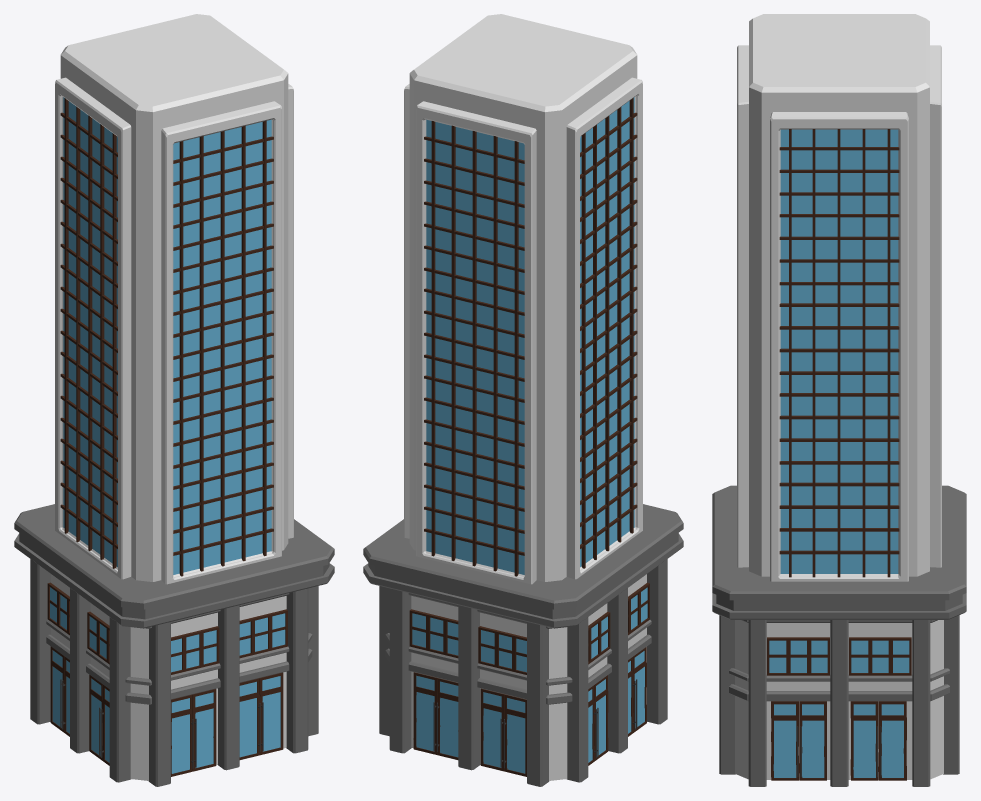
Rendered from SM_building_tall_03.fbx.
3 views of the same model, side by side, from view 1: azimuth 30°, elevation 25°; view 2: azimuth 150°, elevation 25°; view 3: azimuth 270°, elevation 25° (orthographic). The views are drawn at different scales.
Visible parts, largest first — view 1: Object32318; view 2: Object32318; view 3: Object32318.
Part boxes in pixels (x1,y1,x2,y2): Object32318: [14, 14, 334, 786]; Object32318: [363, 14, 683, 786]; Object32318: [712, 14, 966, 786].
Bounding box in the file's own units: 351 × 1044 × 351.
